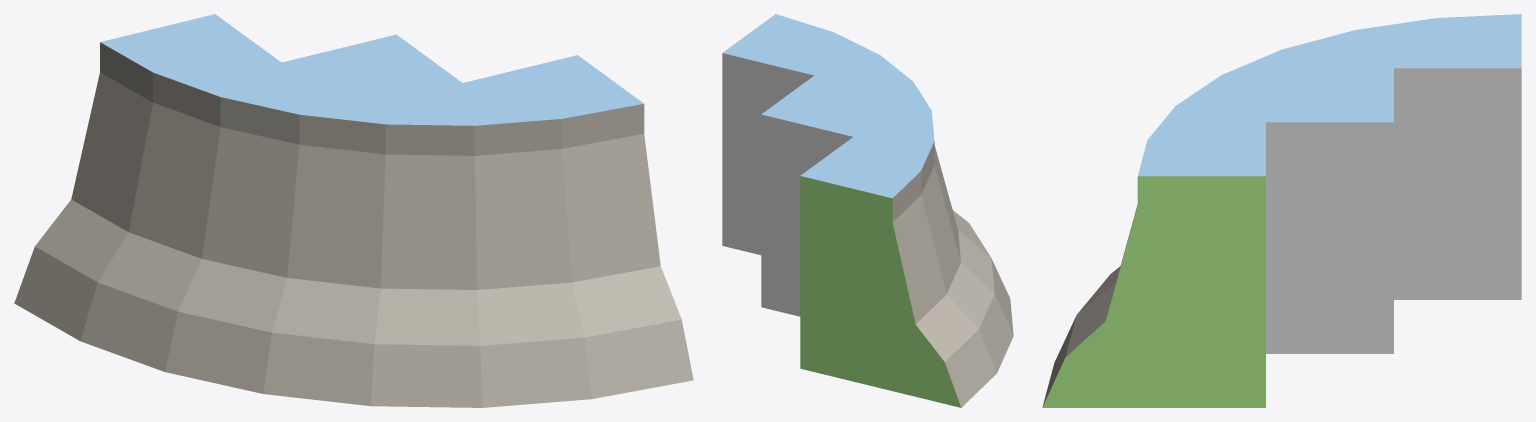
File: Wall_Curve_Outer_4x4_Base.glb
3 views of the same model, side by side, from view 1: azimuth 30°, elevation 25°; view 2: azimuth 150°, elevation 25°; view 3: azimuth 270°, elevation 25° (orthographic). The views are drawn at different scales.
Visible parts, largest first — view 1: Wall_Curve_Outer_4x4_Base; view 2: Wall_Curve_Outer_4x4_Base; view 3: Wall_Curve_Outer_4x4_Base.
Part boxes in pixels (left/top/right/bottom): Wall_Curve_Outer_4x4_Base: left=14, top=14, right=693, bottom=407; Wall_Curve_Outer_4x4_Base: left=722, top=14, right=1013, bottom=407; Wall_Curve_Outer_4x4_Base: left=1042, top=14, right=1521, bottom=407.
Size of the model in its own units: 375 by 200 by 375.
